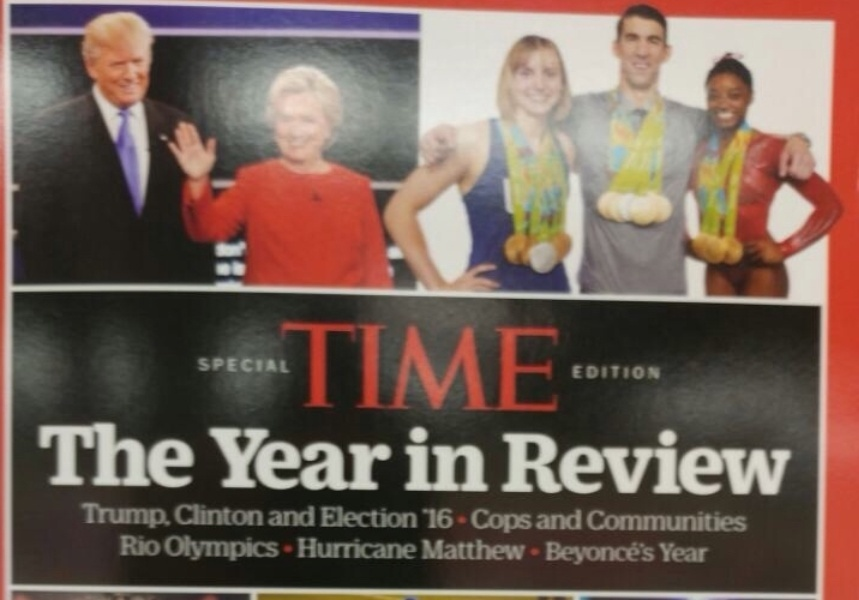text: (289, 317, 304, 413), (305, 317, 320, 413), (321, 317, 336, 413), (337, 317, 352, 413), (353, 317, 368, 413), (369, 317, 384, 413), (385, 317, 400, 413), (401, 317, 416, 413), (417, 317, 432, 413), (433, 317, 448, 413), (449, 317, 464, 413), (465, 317, 480, 413), (481, 317, 496, 413), (497, 317, 512, 413), (513, 317, 528, 413), (529, 317, 544, 413), (545, 317, 560, 413), (497, 427, 512, 500), (513, 427, 528, 500), (529, 427, 544, 500), (545, 427, 560, 500), (561, 427, 576, 500), (577, 427, 592, 500), (593, 427, 608, 500), (609, 427, 624, 500), (625, 427, 640, 500), (641, 427, 656, 500), (657, 427, 672, 500), (673, 427, 688, 500), (689, 427, 704, 500), (705, 427, 720, 500), (721, 427, 736, 500), (737, 427, 752, 500), (753, 427, 768, 500), (769, 427, 784, 500), (417, 424, 432, 494), (433, 424, 448, 494), (449, 424, 464, 494), (465, 424, 480, 494), (49, 421, 64, 489), (65, 421, 80, 489), (81, 421, 96, 489), (97, 421, 112, 489), (113, 421, 128, 489), (129, 421, 144, 489), (145, 421, 160, 489), (161, 421, 176, 489), (177, 421, 192, 489), (209, 425, 224, 492), (225, 425, 240, 492), (241, 425, 256, 492), (257, 425, 272, 492), (273, 425, 288, 492), (289, 425, 304, 492), (305, 425, 320, 492), (321, 425, 336, 492), (337, 425, 352, 492), (353, 425, 368, 492), (369, 425, 384, 492), (402, 424, 416, 494), (278, 317, 288, 413), (38, 421, 48, 489), (481, 424, 490, 494), (385, 425, 394, 492), (81, 501, 96, 531), (97, 501, 112, 531), (113, 501, 128, 531), (129, 501, 144, 531), (145, 501, 160, 531), (785, 427, 791, 500), (481, 506, 496, 535), (497, 506, 512, 535), (513, 506, 528, 535), (321, 503, 336, 530), (337, 503, 352, 530), (353, 503, 368, 530), (369, 503, 384, 530), (385, 503, 400, 530), (401, 503, 416, 530), (177, 535, 192, 562), (193, 535, 208, 562), (209, 535, 224, 562), (225, 535, 240, 562), (241, 535, 256, 562), (257, 535, 272, 562), (641, 541, 657, 566), (177, 501, 192, 527), (193, 501, 208, 527), (209, 501, 224, 527), (225, 501, 240, 527), (241, 501, 256, 527), (593, 507, 608, 533), (609, 507, 624, 533), (625, 507, 640, 533), (641, 507, 656, 533), (657, 507, 672, 533), (673, 507, 688, 533), (689, 507, 704, 533), (705, 507, 720, 533), (721, 507, 736, 533), (162, 535, 176, 562), (433, 506, 448, 531), (545, 541, 560, 566), (561, 541, 576, 566), (577, 541, 592, 566), (593, 541, 608, 566), (609, 541, 624, 566), (625, 541, 640, 566), (273, 503, 288, 527), (289, 503, 304, 527), (129, 533, 144, 557), (145, 533, 160, 557), (305, 537, 320, 561), (321, 537, 336, 561), (337, 537, 352, 561), (353, 537, 368, 561), (369, 537, 384, 561), (385, 537, 400, 561), (401, 537, 416, 561), (433, 538, 448, 562), (449, 538, 464, 562), (465, 538, 480, 562), (481, 538, 496, 562), (497, 538, 512, 562), (657, 541, 672, 565), (673, 541, 688, 565), (689, 541, 704, 565), (161, 501, 172, 531), (545, 509, 560, 531), (561, 509, 576, 531), (419, 538, 432, 562), (513, 538, 526, 562), (209, 355, 224, 375), (225, 355, 240, 375), (241, 355, 256, 375), (257, 355, 272, 375), (273, 355, 288, 375), (737, 507, 748, 533), (577, 363, 592, 382), (593, 363, 608, 382), (609, 363, 624, 382), (625, 363, 640, 382), (641, 363, 656, 382), (193, 421, 197, 489), (305, 503, 316, 527), (471, 506, 480, 535), (195, 355, 208, 375), (273, 535, 282, 562), (257, 501, 266, 527), (534, 509, 544, 531), (119, 533, 128, 557), (424, 506, 432, 531), (296, 537, 304, 561), (586, 507, 592, 533), (577, 509, 584, 531), (449, 506, 455, 531), (705, 541, 711, 565), (657, 363, 664, 382), (267, 503, 272, 527), (172, 501, 176, 527), (561, 317, 562, 413), (529, 506, 532, 535), (289, 355, 293, 375), (572, 363, 576, 382), (161, 533, 164, 557), (207, 425, 208, 492), (417, 503, 419, 530), (543, 541, 544, 566), (417, 537, 418, 561)
